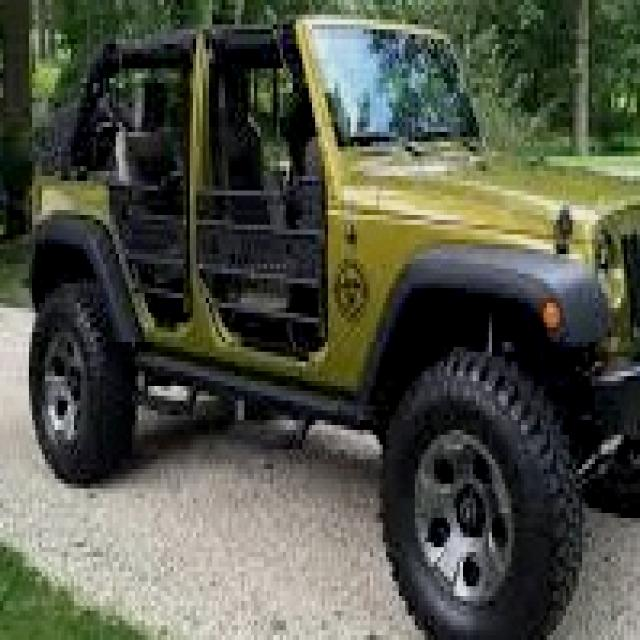green: (25, 20, 640, 639)
